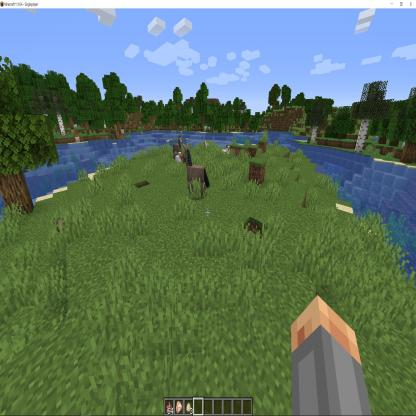minecraft-pigs: (193, 210, 229, 272)
